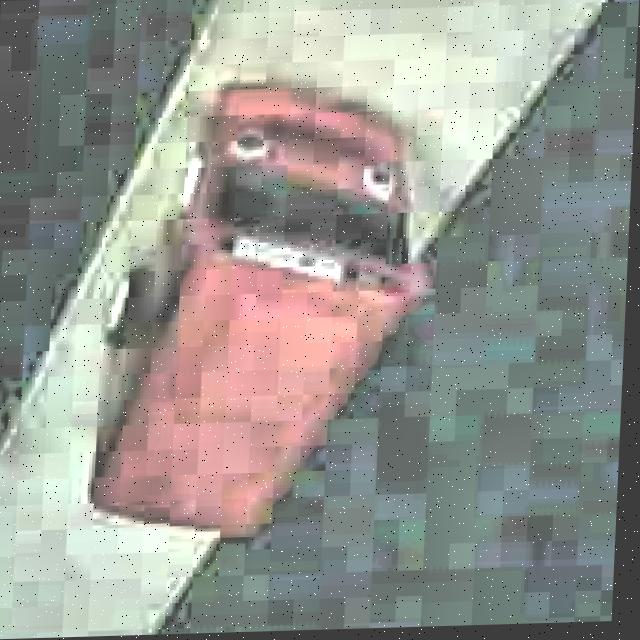bus: (85, 81, 435, 541)
